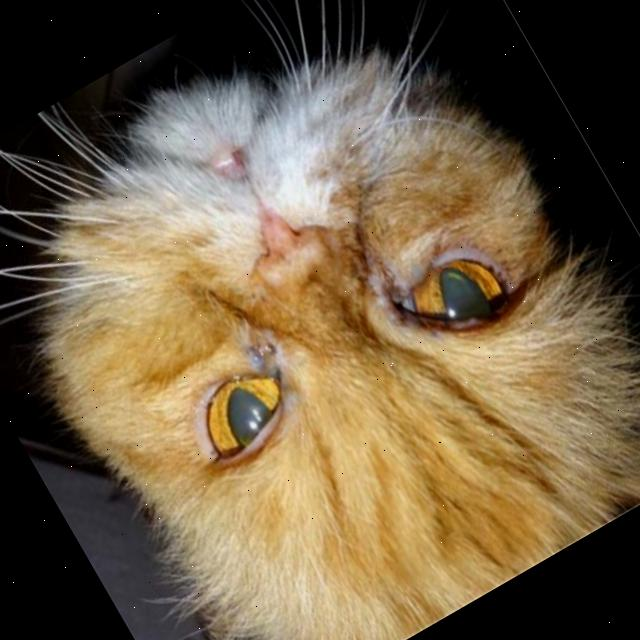cat-eye: (348, 185, 546, 385), (140, 320, 318, 488)
